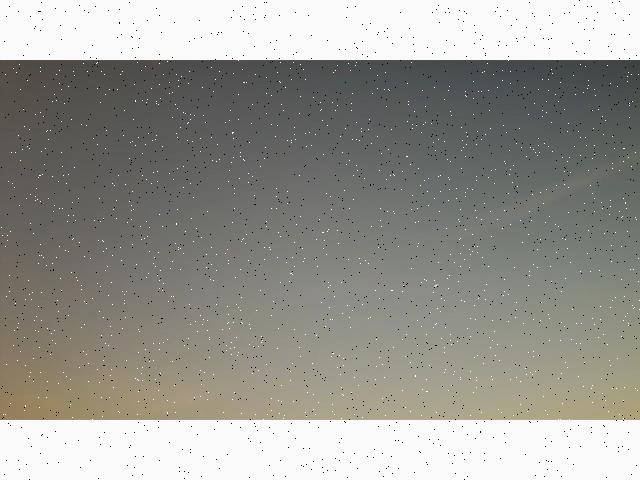Anti-Drone: (425, 280, 453, 296)
